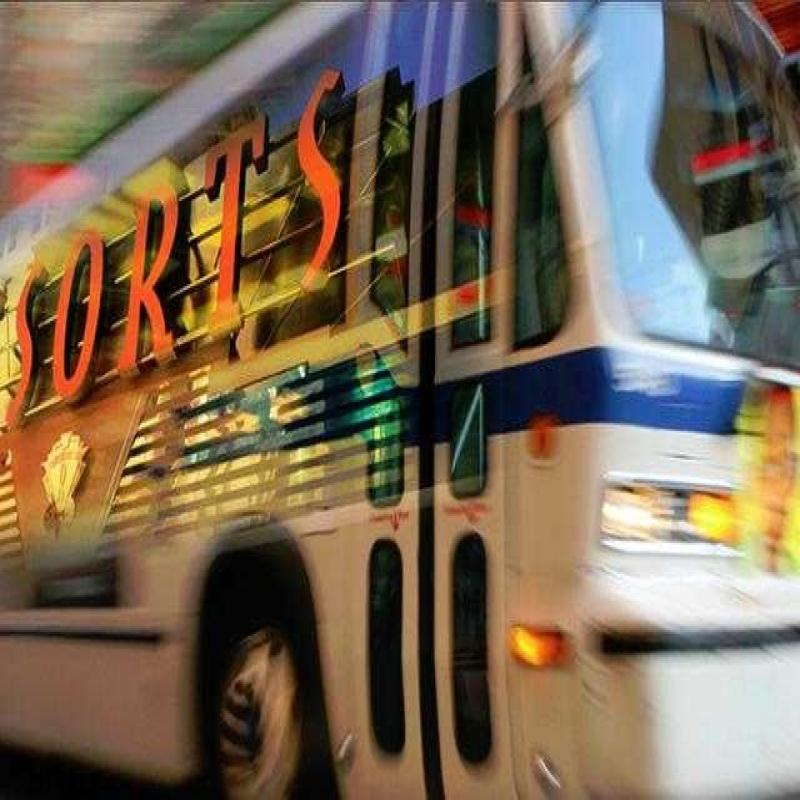bus: (26, 39, 799, 779)
